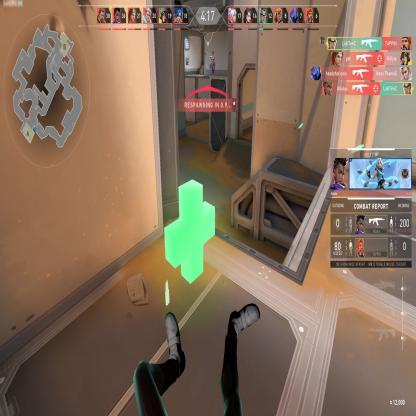enemy: (210, 50, 216, 75)
